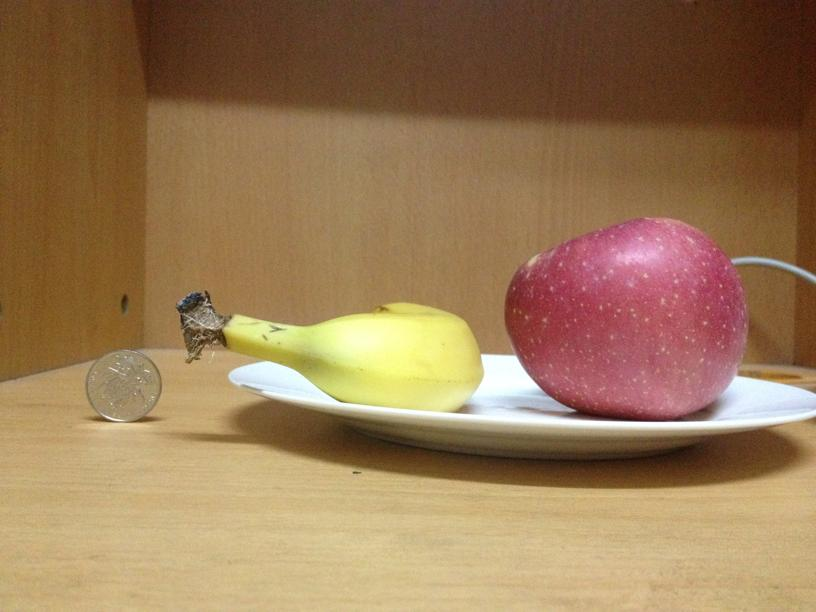apple: (510, 214, 748, 418)
banana: (226, 296, 485, 411)
coin: (84, 348, 162, 423)
